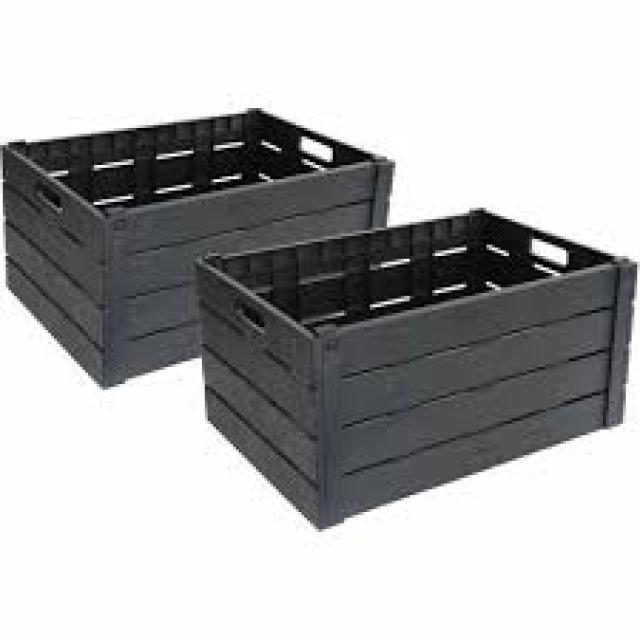basket: (0, 20, 434, 409)
